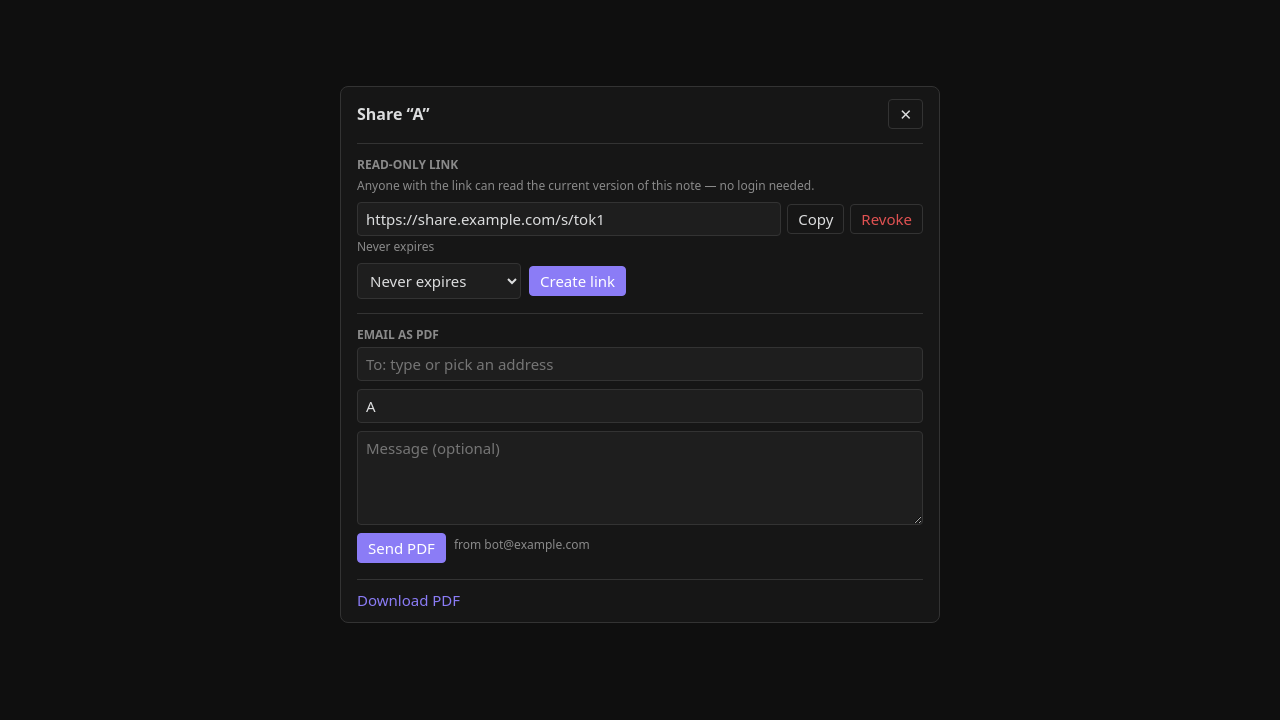
Test: ShareDialog email › suggests addresses from the note and from earlier sends
Check: the text "from bot@example.com" is shown, box [454,536,590,553]
Focus the dropdown labelled "To" at (640, 364), box [364,352,916,376]
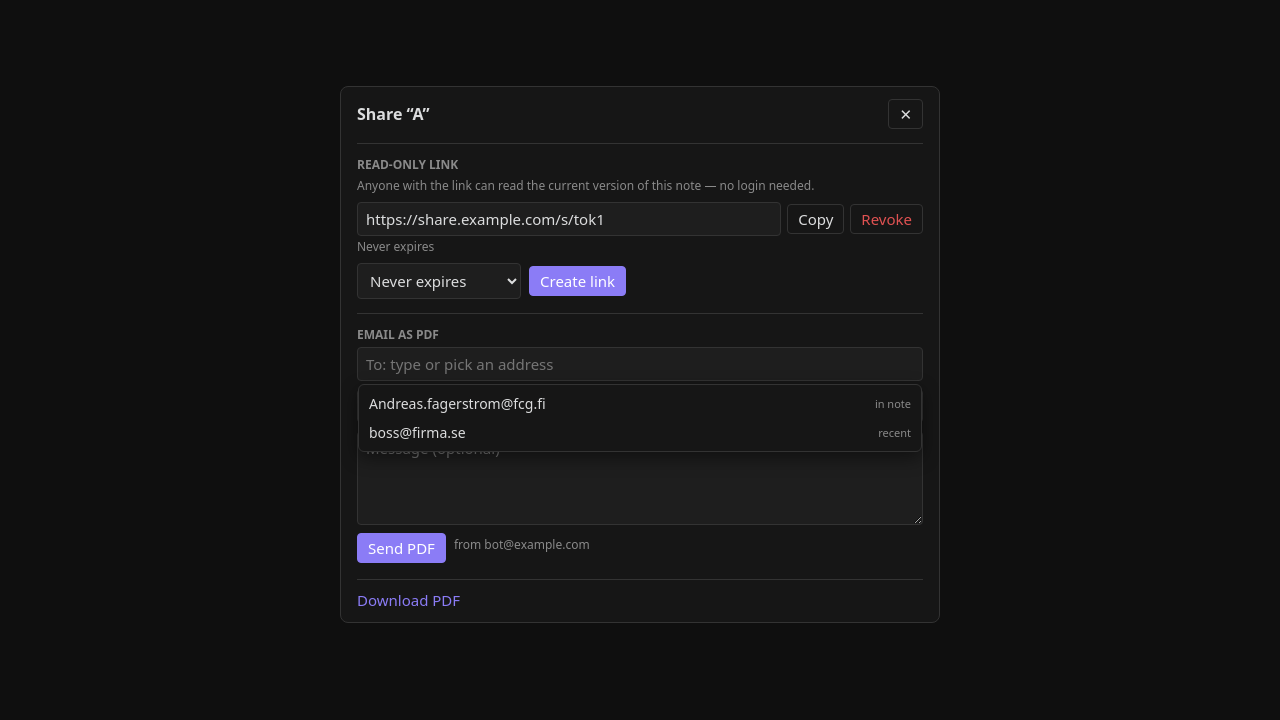
Check: the options read "Andreas.fagerstrom@fcg.fiin note", "boss@firma.serecent", in this order
Press the mouse on the option "Andreas.fagerstrom@fcg.fi in note" at (457, 404), box [359,389,921,418]
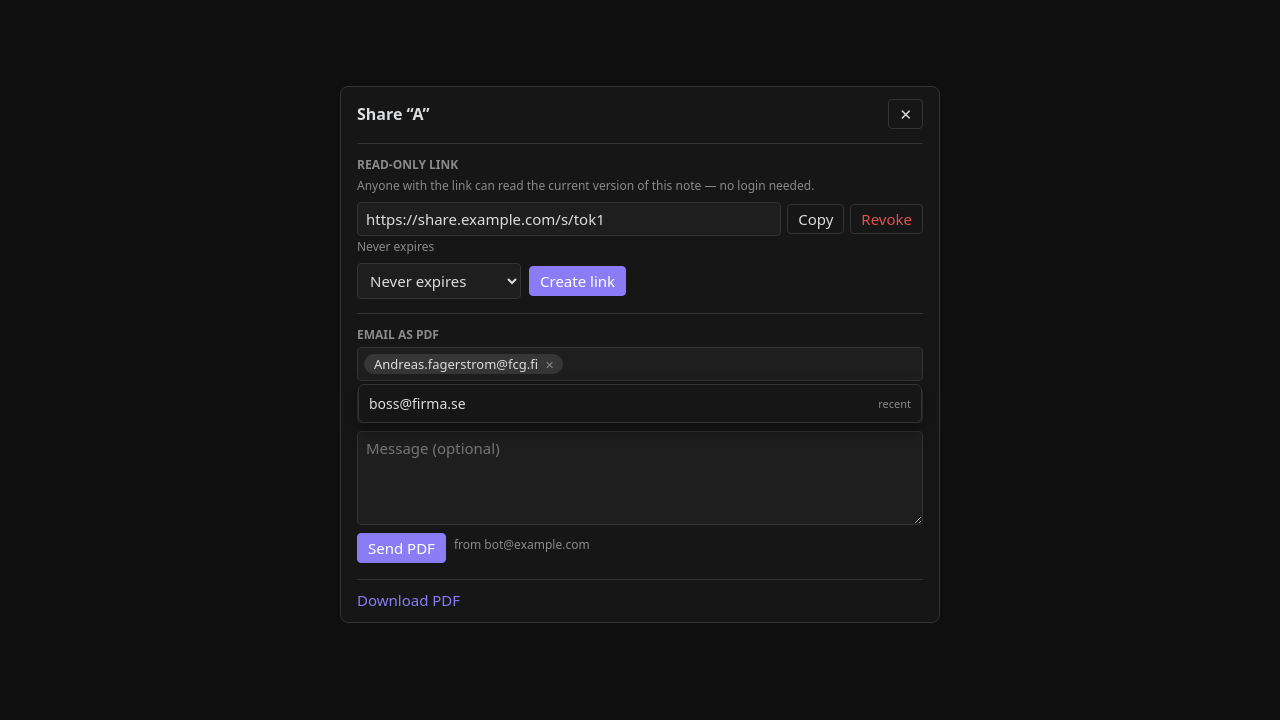
Click the button "Send PDF" at (401, 548), box [357,533,446,563]
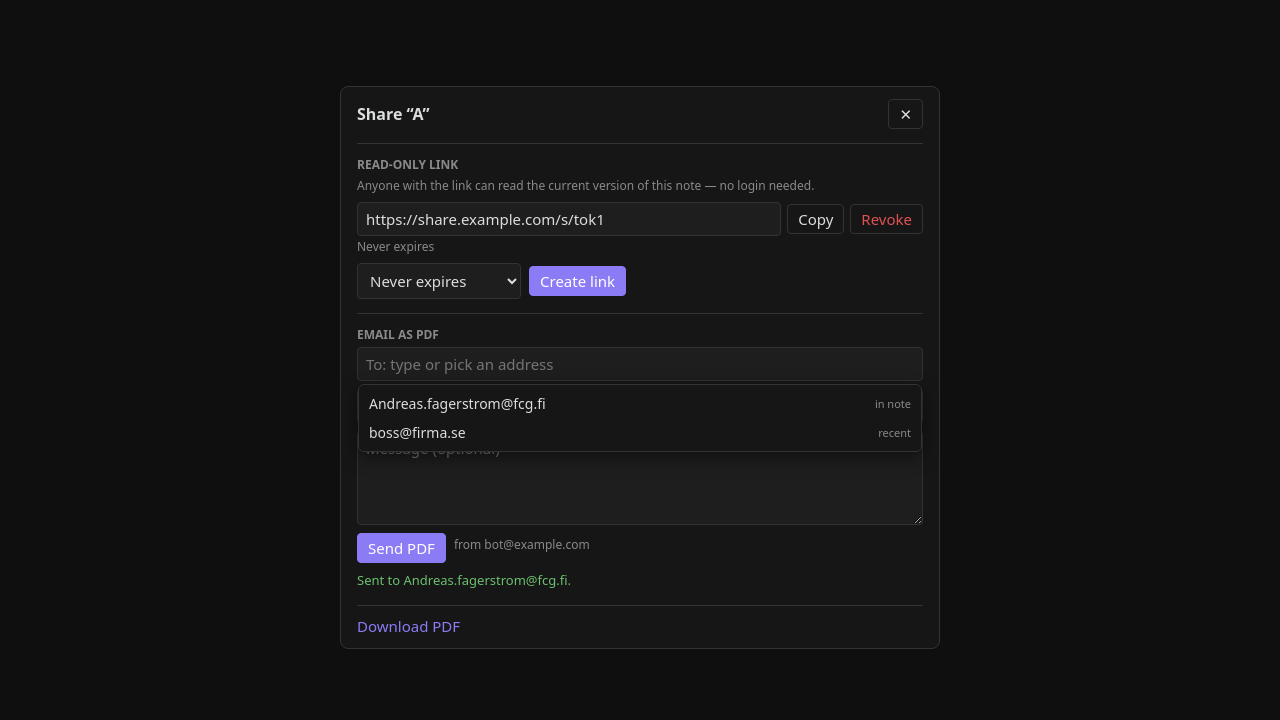
Check: the text "Sent to Andreas.fagerstrom@fcg.fi." is shown, box [357,571,571,589]
